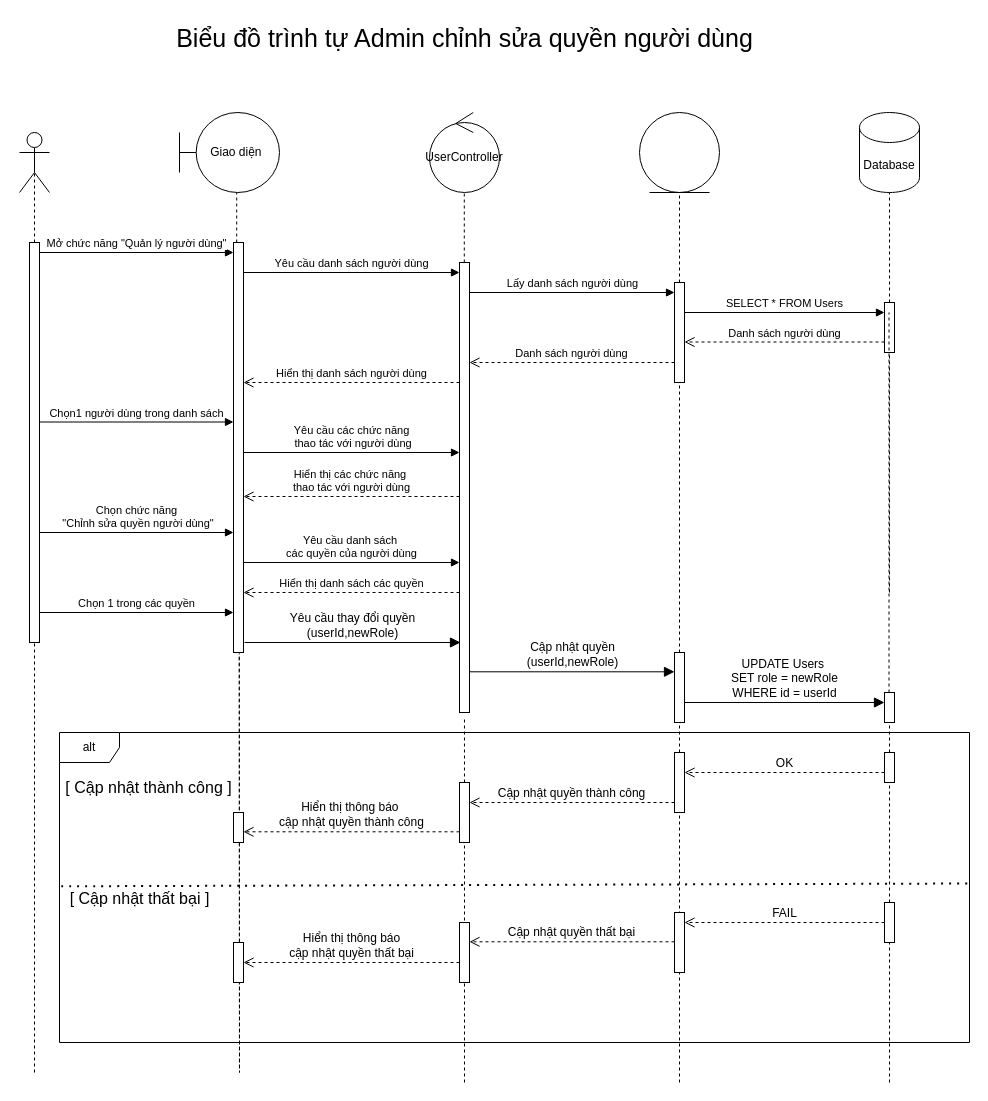
The diagram is 988 pixels wide and 1101 high, and some of its shapes have lost their labels. Each missing label, with the box of its shape:
Admin: (18, 132, 50, 192)
UserService: (638, 112, 720, 192)
